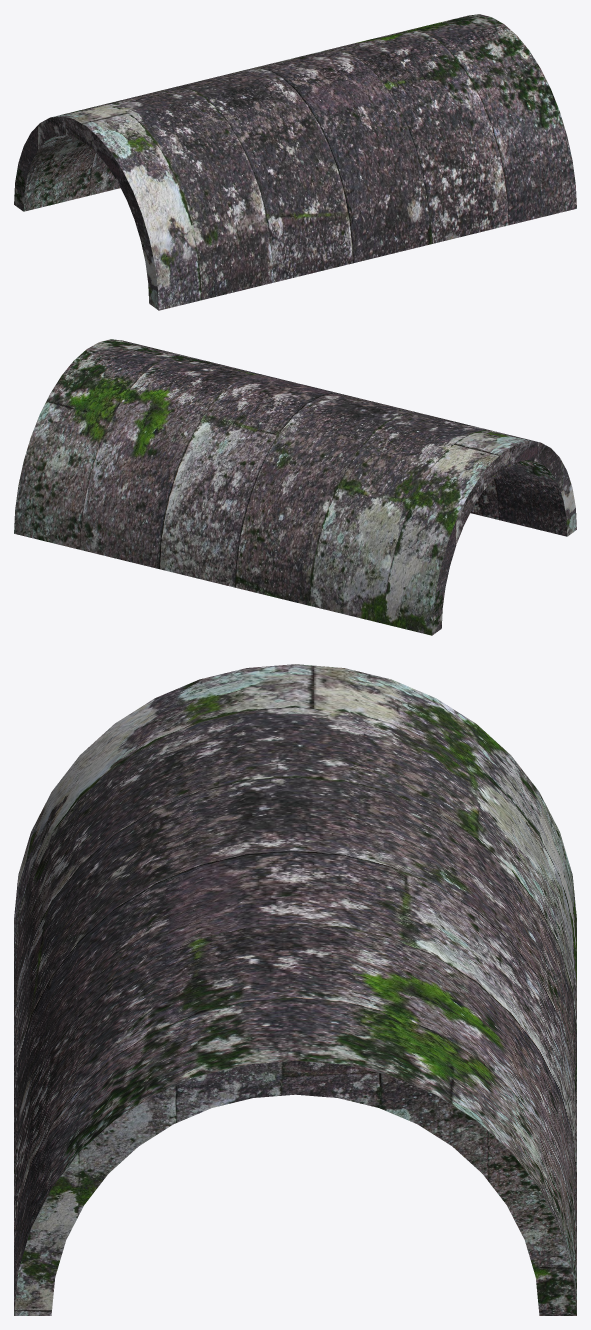
Rendered from トンネル1.fbx.
The picture shows the model from 3 angles, top to bottom: view 1: azimuth 30°, elevation 25°; view 2: azimuth 150°, elevation 25°; view 3: azimuth 270°, elevation 25°; orthographic projection. The views are drawn at different scales.
Parts seen in each view (by area): view 1: チューブ; view 2: チューブ; view 3: チューブ.
Part boxes in pixels (bbox=[...]): チューブ: bbox=[14, 14, 576, 310]; チューブ: bbox=[14, 339, 576, 635]; チューブ: bbox=[14, 664, 576, 1315].
Bounding box in the file's own units: 500 × 150 × 300.
Materials: 1 (1 with a texture image).
